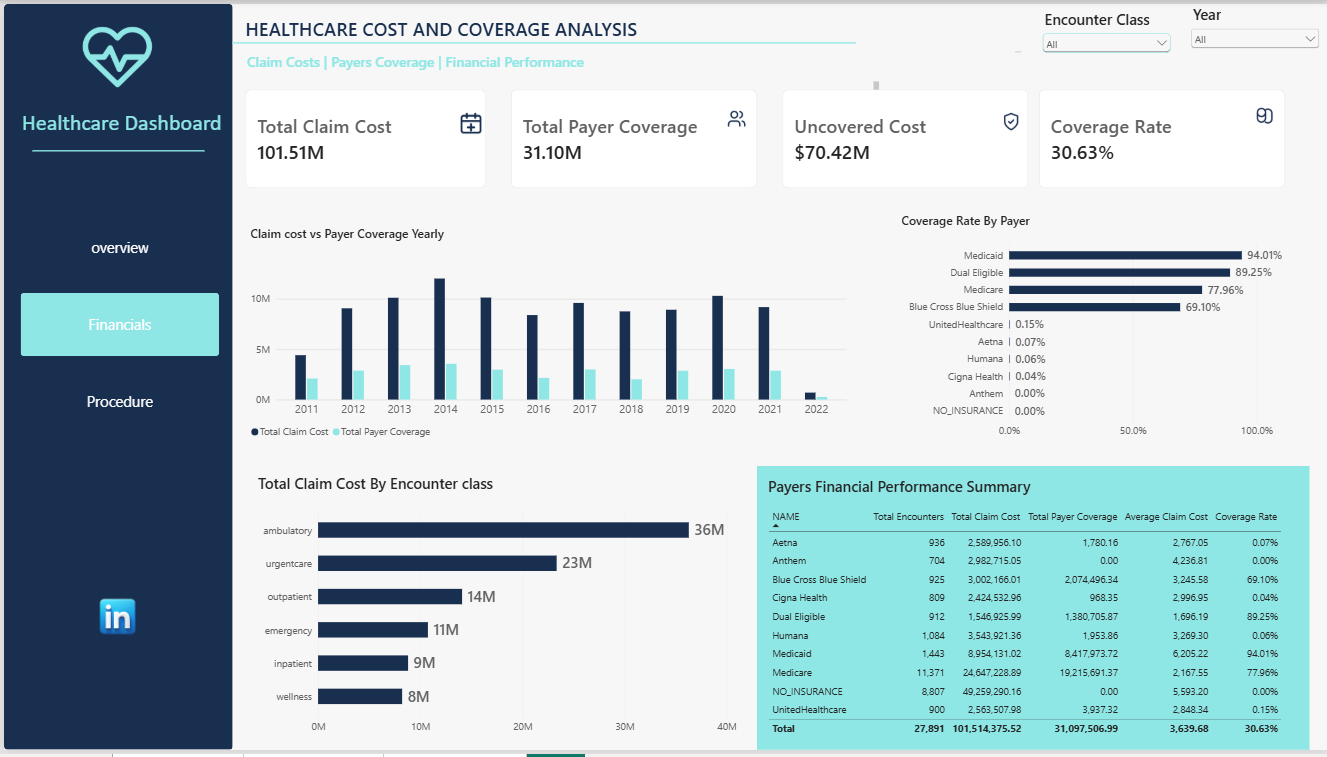

The dashboard page shown, as its layout file describes it:
{"tool":"powerbi","page":{"name":"Financials","canvas":[1920,1080],"ordinal":1},"visuals":[{"type":"shape","box":[101,275,210.6,85.9],"z":0},{"type":"shape","box":[101,275,210.6,85.9],"z":1000},{"type":"cardVisual","title":"Total Encounters","fields":{"Data":["All Measures.Total Claim Cost"]},"box":[350.2,124.6,348.1,144],"z":2000},{"type":"cardVisual","fields":{"Data":["All Measures.Total Payer Coverage"]},"box":[734.8,124.6,356.7,144],"z":3000},{"type":"cardVisual","title":"Uncover Cost","fields":{"Data":["All Measures.Uncovered Cost"]},"box":[1128,124.6,356.7,144],"z":4000},{"type":"cardVisual","fields":{"Data":["All Measures.Coverage Rate"]},"box":[1499.7,124.6,356.7,144],"z":5000},{"type":"shape","box":[0,0,331.6,1080.8],"z":6000},{"type":"textbox","title":"HEALTHCARE COST AND COVERAGE  ANALYSIS","box":[350.7,16.7,1123.8,52.5],"z":7000},{"type":"textbox","title":"Claim Costs | Payers Coverage | Financial Performance","box":[353.1,69.2,916.2,54.9],"z":8000},{"type":"slicer","fields":{"Values":["DateTable.Year"]},"box":[1652.3,17.2,253.5,94.5],"z":9000},{"type":"image","box":[94.5,23.6,141.8,106.3],"z":10000},{"type":"image","box":[1813.4,148.3,28,28],"z":11000},{"type":"image","box":[1446,156.8,28,28],"z":12000},{"type":"image","box":[1048.5,152.5,28,28],"z":13000},{"type":"image","box":[657.5,154.7,40.8,36.5],"z":14000},{"type":"shape","box":[40.8,189.1,249.2,47.3],"z":15000},{"type":"textbox","box":[25.8,152.5,373.9,64.5],"z":16000},{"type":"shape","box":[330.9,43,904.6,25.8],"z":17000},{"type":"tableEx","title":"Payers Financial Performance Summary","fields":{"Values":["payers.NAME","All Measures.Total Encounters","All Measures.Total Claim Cost","All Measures.Total Payer Coverage","All Measures.Average Claim Cost","All Measures.Coverage Rate"]},"box":[1091.5,668.6,800.9,411.1],"z":18000},{"type":"clusteredBarChart","title":"Total Claim Cost By Encounter class","fields":{"Category":["encounters.ENCOUNTERCLASS"],"Y":["All Measures.Total Claim Cost"]},"box":[352,666.3,725.3,413.5],"z":19000},{"type":"clusteredColumnChart","title":"Claim cost vs Payer Coverage Yearly ","fields":{"Category":["DateTable.Year"],"Y":["All Measures.Total Claim Cost","All Measures.Total Payer Coverage"]},"box":[341.6,307.2,896,343.8],"z":20000},{"type":"clusteredBarChart","title":"Coverage Rate By Payer","fields":{"Category":["payers.NAME"],"Y":["All Measures.Coverage Rate"]},"box":[1284.9,287.9,608,363.1],"z":21000},{"type":"pageNavigator","box":[24.3,306.8,288.6,316],"z":22000},{"type":"image","box":[129.9,852.9,68.5,70.9],"z":23000}]}

Visuals, with their boxes in screenshot pixels (x1, y1, x2, y2), scaled from the page's 1920x1080 canvas onto the 1327x757 screenshot:
shape: (x1=70, y1=193, x2=215, y2=253)
shape: (x1=70, y1=193, x2=215, y2=253)
"Total Encounters" cardVisual: (x1=242, y1=87, x2=483, y2=188)
cardVisual - All Measures.Total Payer Coverage: (x1=508, y1=87, x2=754, y2=188)
"Uncover Cost" cardVisual: (x1=780, y1=87, x2=1026, y2=188)
cardVisual - All Measures.Coverage Rate: (x1=1037, y1=87, x2=1283, y2=188)
shape: (x1=0, y1=0, x2=229, y2=756)
"HEALTHCARE COST AND COVERAGE  ANALYSIS" textbox: (x1=242, y1=12, x2=1019, y2=49)
"Claim Costs | Payers Coverage | Financial Performance" textbox: (x1=244, y1=49, x2=877, y2=87)
slicer - DateTable.Year: (x1=1142, y1=12, x2=1317, y2=78)
image: (x1=65, y1=17, x2=163, y2=91)
image: (x1=1253, y1=104, x2=1273, y2=124)
image: (x1=999, y1=110, x2=1019, y2=130)
image: (x1=725, y1=107, x2=744, y2=127)
image: (x1=454, y1=108, x2=483, y2=134)
shape: (x1=28, y1=133, x2=200, y2=166)
textbox: (x1=18, y1=107, x2=276, y2=152)
shape: (x1=229, y1=30, x2=854, y2=48)
"Payers Financial Performance Summary" tableEx: (x1=754, y1=469, x2=1308, y2=756)
"Total Claim Cost By Encounter class" clusteredBarChart: (x1=243, y1=467, x2=745, y2=756)
"Claim cost vs Payer Coverage Yearly " clusteredColumnChart: (x1=236, y1=215, x2=855, y2=456)
"Coverage Rate By Payer" clusteredBarChart: (x1=888, y1=202, x2=1308, y2=456)
pageNavigator: (x1=17, y1=215, x2=216, y2=437)
image: (x1=90, y1=598, x2=137, y2=648)
